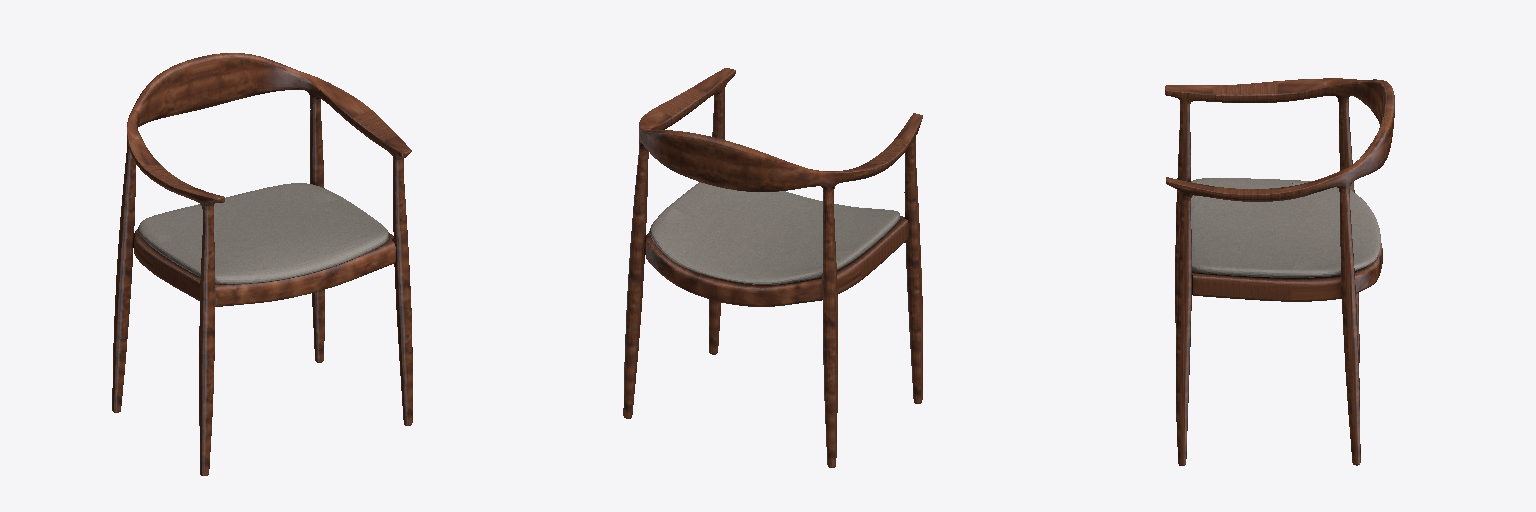
3 renders of one model, left to right at view 1: azimuth 30°, elevation 25°; view 2: azimuth 150°, elevation 25°; view 3: azimuth 270°, elevation 25°, orthographic.
Parts seen in each view (by area): view 1: solid_001, solid_002; view 2: solid_001, solid_002; view 3: solid_001, solid_002.
Boxes of the visible parts, <box> form: solid_001: <box>112,53,412,475</box>; solid_002: <box>138,183,388,284</box>; solid_001: <box>623,68,922,467</box>; solid_002: <box>650,182,900,284</box>; solid_001: <box>1165,78,1394,465</box>; solid_002: <box>1191,178,1380,277</box>.
Bounding box in the file's own units: 0.5625 × 0.7388 × 0.4866.
Materials: 1 (1 with a texture image).